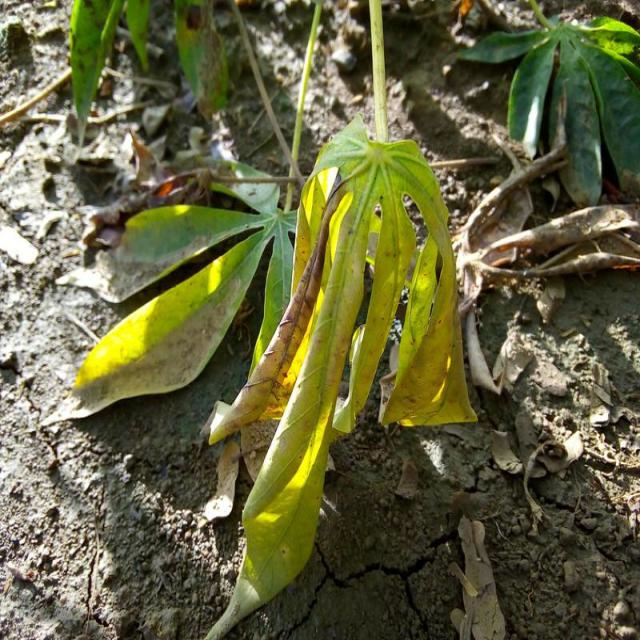cassava leaf: (202, 112, 476, 638), (51, 200, 281, 422)
